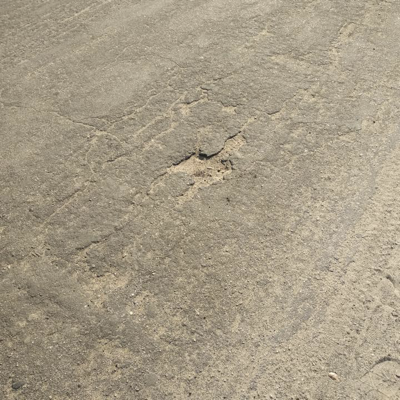pothole: (164, 150, 237, 189), (223, 132, 250, 151)
